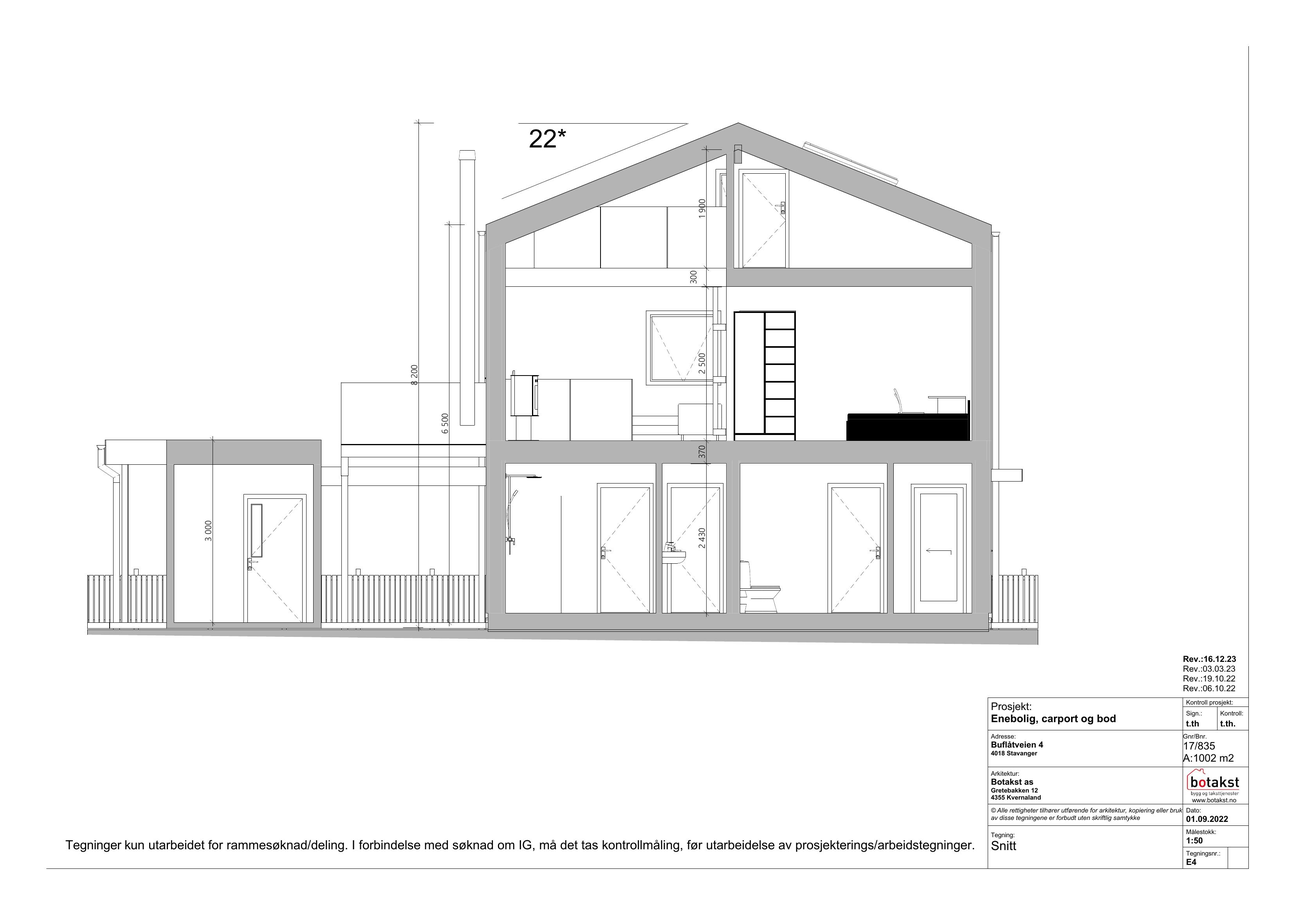snitt: (88, 122, 1039, 634)
